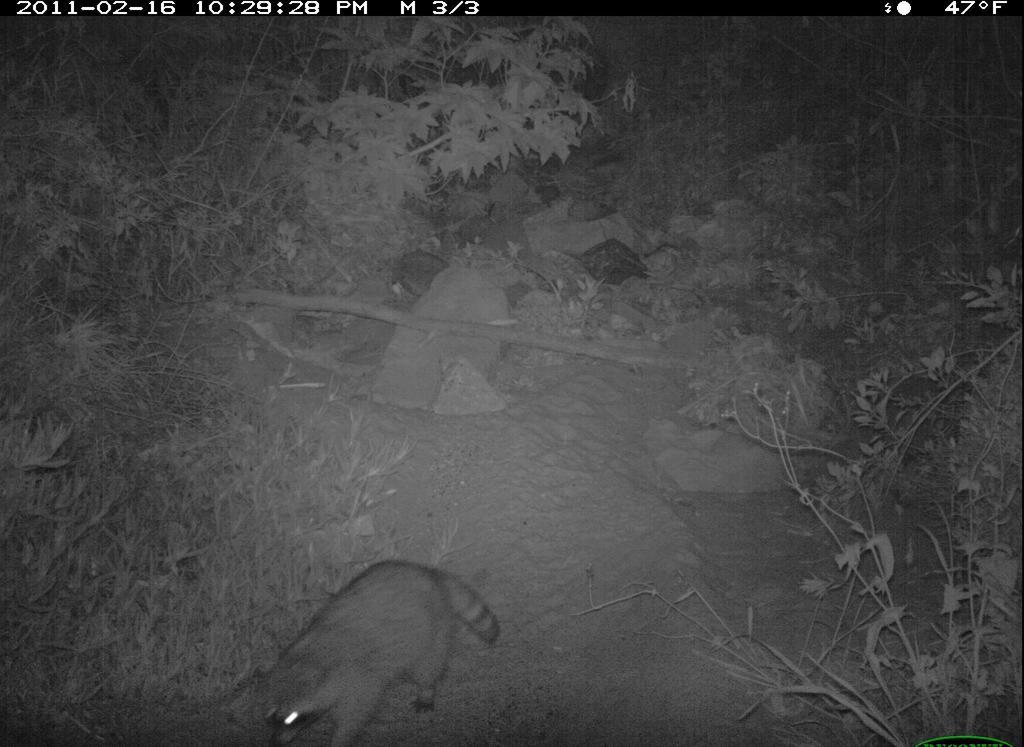raccoon: (248, 553, 505, 747)
